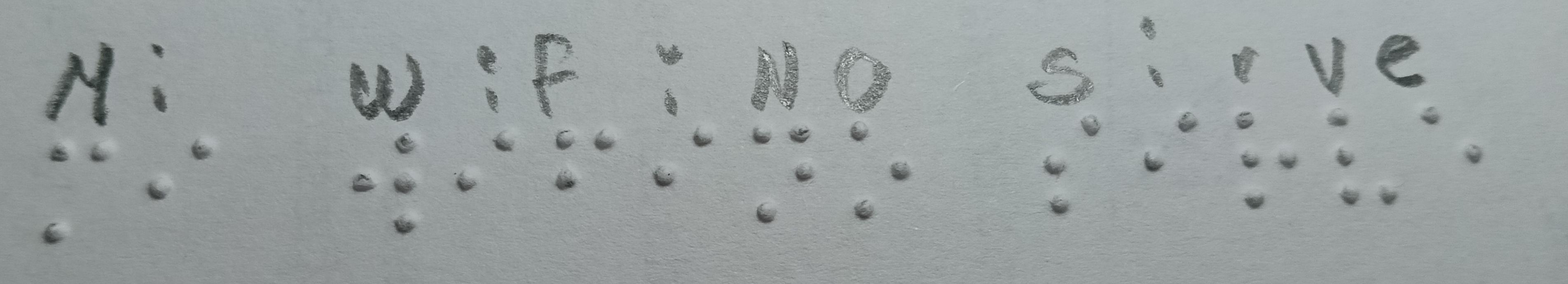e: (1411, 99, 1495, 173)
f: (546, 119, 618, 204)
i: (128, 128, 220, 218), (439, 121, 534, 206), (630, 117, 727, 196), (1129, 105, 1207, 187)
m: (39, 132, 115, 253)
n: (742, 113, 820, 226)
o: (834, 119, 921, 224)
r: (1226, 111, 1306, 218)
s: (999, 111, 1119, 222)
v: (1325, 105, 1411, 216)
w: (311, 119, 428, 245)
